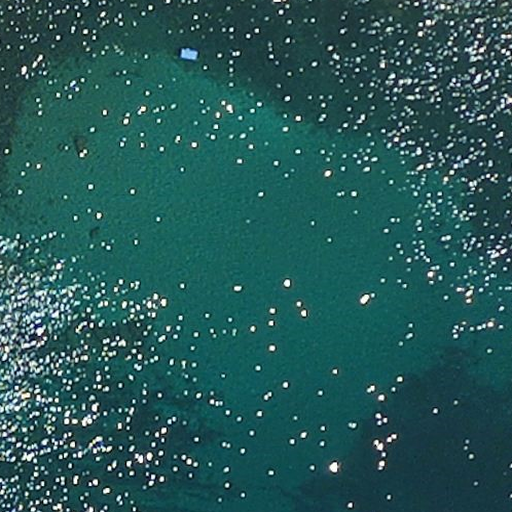ship: (178, 46, 199, 63)
